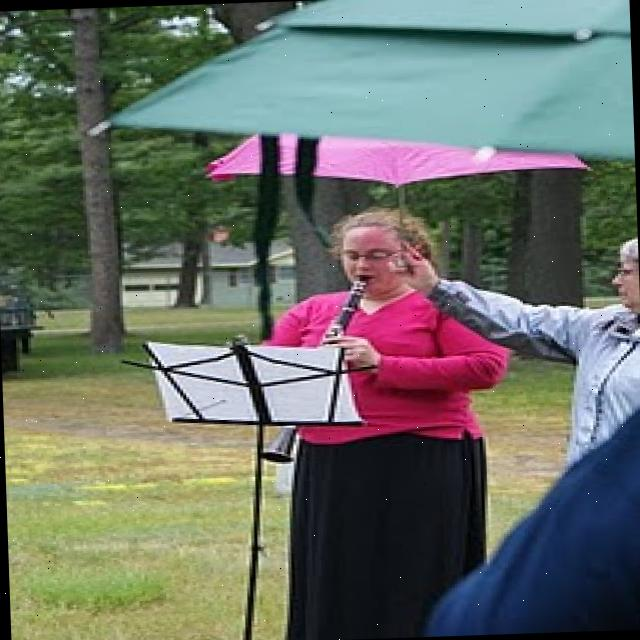clarinet: (250, 274, 380, 464)
